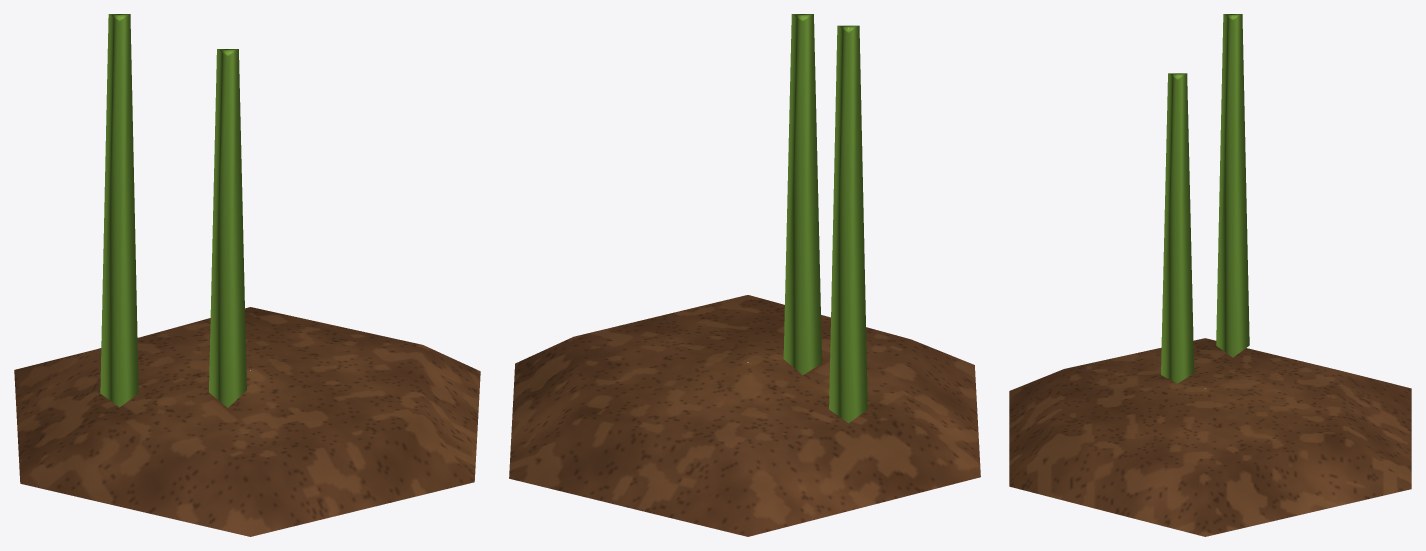
File: plant-corn-1-far.glb
The picture shows the model from 3 angles, left to right: view 1: azimuth 30°, elevation 25°; view 2: azimuth 150°, elevation 25°; view 3: azimuth 270°, elevation 25°; orthographic projection. The views are drawn at different scales.
Visible parts, largest first — view 1: plant-corn-1-far; view 2: plant-corn-1-far; view 3: plant-corn-1-far.
Part boxes in pixels (x1,y1,x2,y2): plant-corn-1-far: (14,14,480,536); plant-corn-1-far: (509,14,980,536); plant-corn-1-far: (1009,14,1411,536).
Size of the model in its own units: 0.84 by 0.745 by 0.7275.
Materials: 2 (1 with a texture image).
